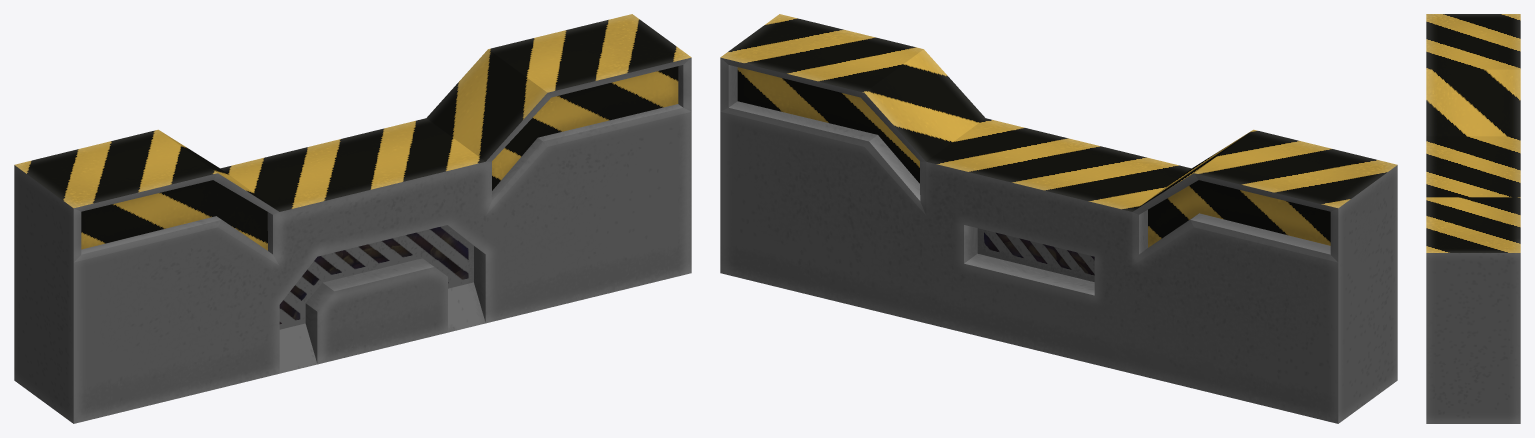
The model's file is Security Door L.fbx.
3 views of the same model, side by side, from view 1: azimuth 30°, elevation 25°; view 2: azimuth 150°, elevation 25°; view 3: azimuth 270°, elevation 25° (orthographic). The views are drawn at different scales.
Parts seen in each view (by area): view 1: Door Lower; view 2: Door Lower; view 3: Door Lower.
Boxes of the visible parts, <box> form: Door Lower: <box>14,14,691,423</box>; Door Lower: <box>720,14,1397,423</box>; Door Lower: <box>1426,14,1520,423</box>.
Bounding box in the file's own units: 6 × 2 × 1.
